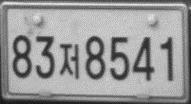1: (159, 37, 175, 81)
3: (34, 35, 56, 79)
4: (131, 35, 155, 82)
5: (109, 35, 130, 81)
8: (84, 36, 106, 80), (12, 34, 32, 79)
저: (58, 42, 81, 80)
